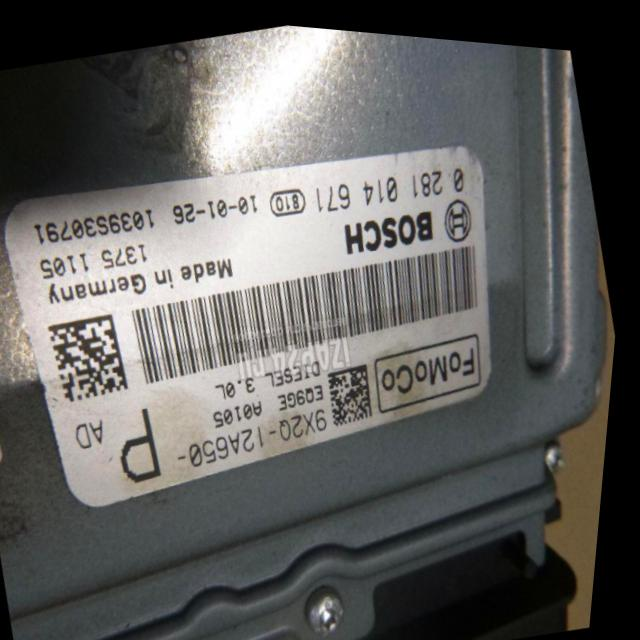datamatrix: (47, 305, 142, 407), (328, 354, 386, 422)
